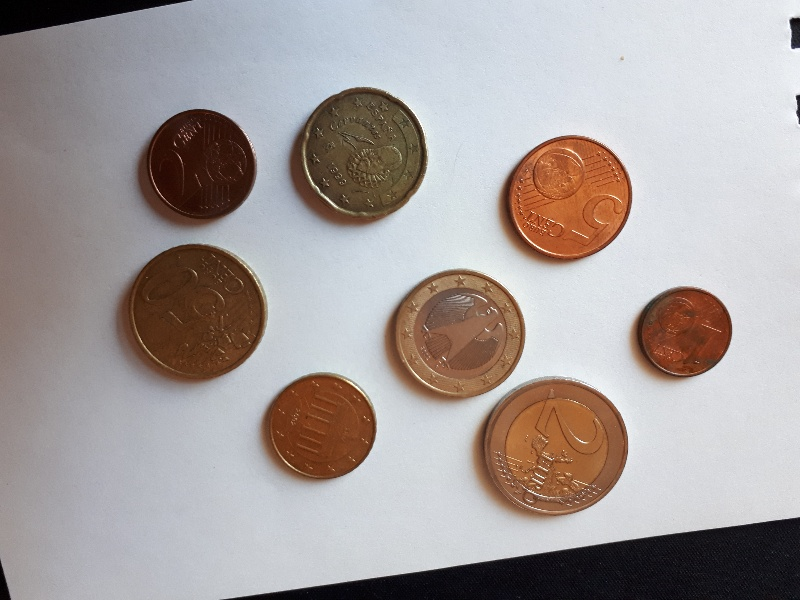1 cent: (639, 288, 733, 379)
1 euro: (392, 267, 531, 399)
10 cent: (265, 368, 388, 483)
2 cent: (142, 109, 260, 222)
2 euro: (481, 375, 634, 518)
5 cent: (507, 133, 633, 261)
50 cent: (125, 240, 267, 382), (298, 83, 432, 221)
